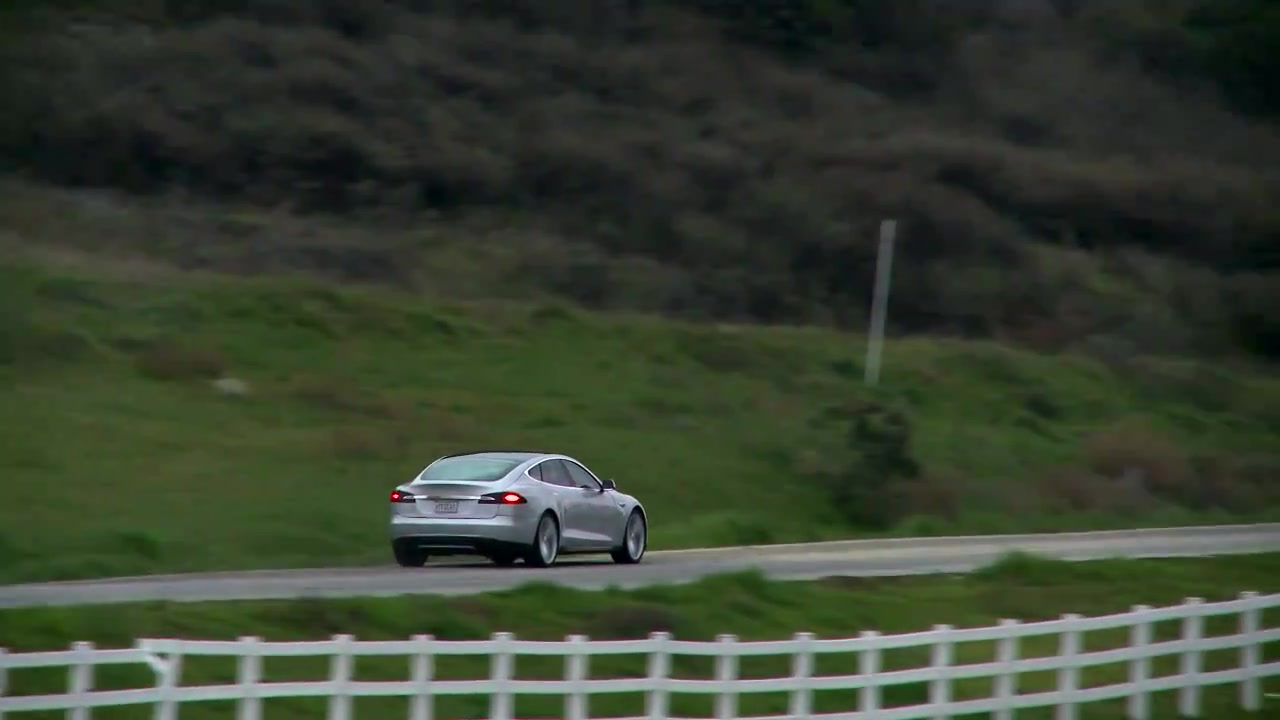car: (382, 452, 654, 573)
